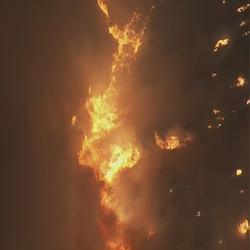fire: (84, 102, 139, 167), (112, 26, 137, 48), (163, 136, 184, 151)
